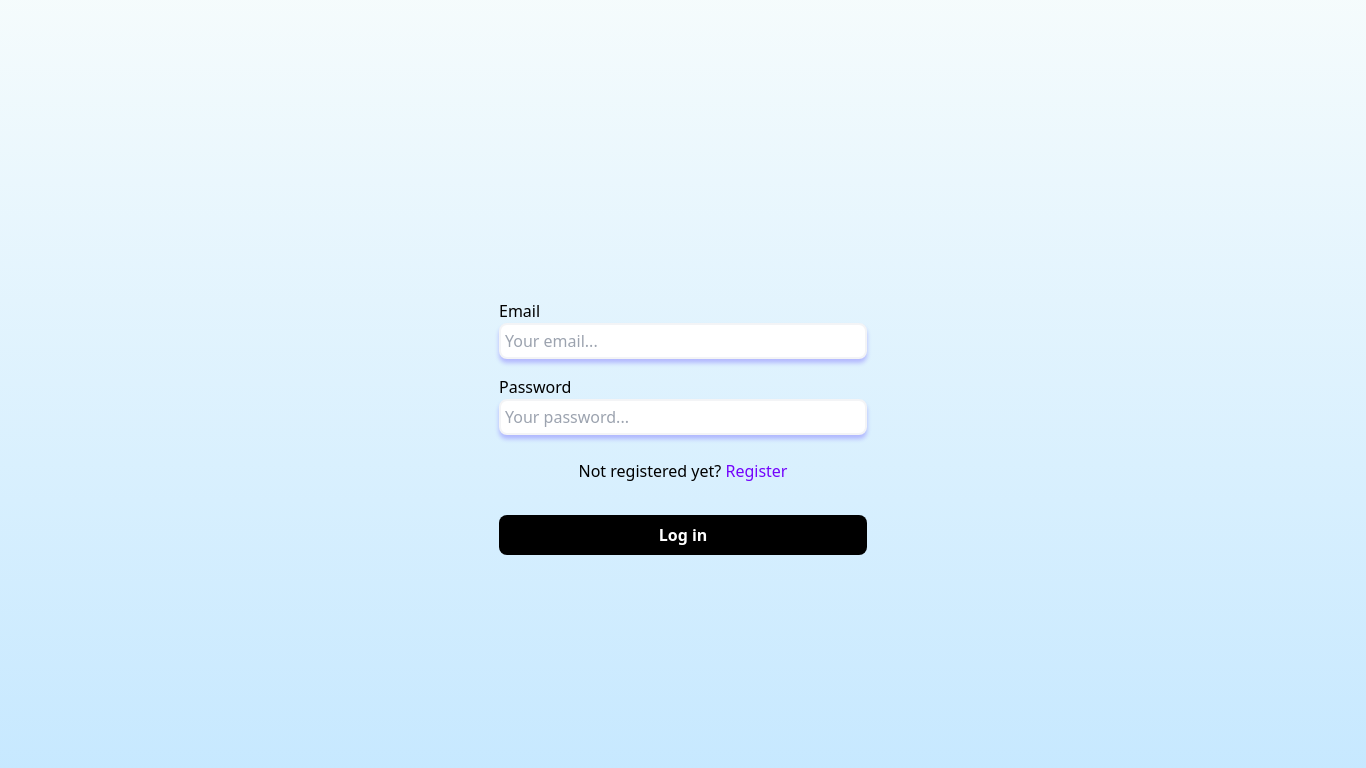
Test case: LoginForm › displays error message on failed login
This screenshot has width=1366, height=768.
In the field with placeholder "Your email...": (683, 341) [499,323,867,359], type "test@example.com"
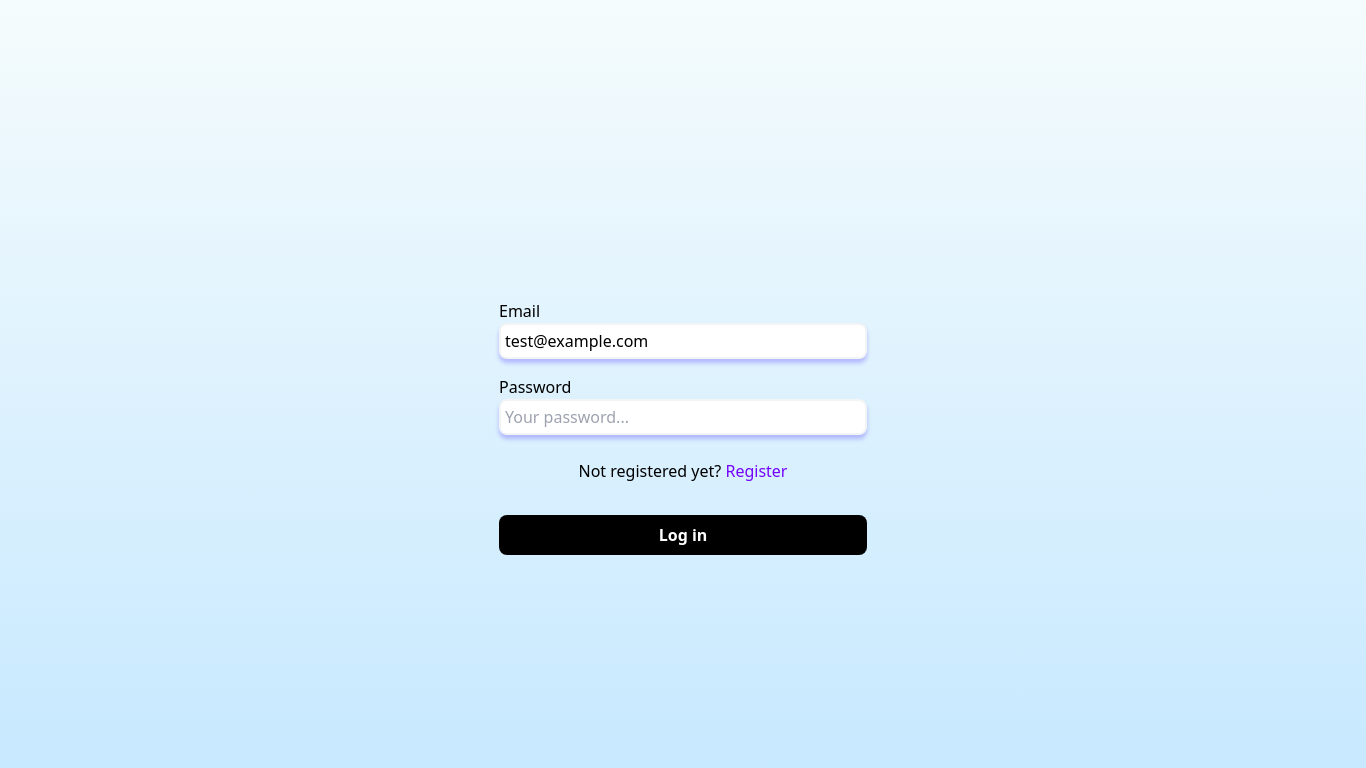
In the password field with placeholder "Your password...": (683, 417) [499,399,867,435], type "wrongpassword"
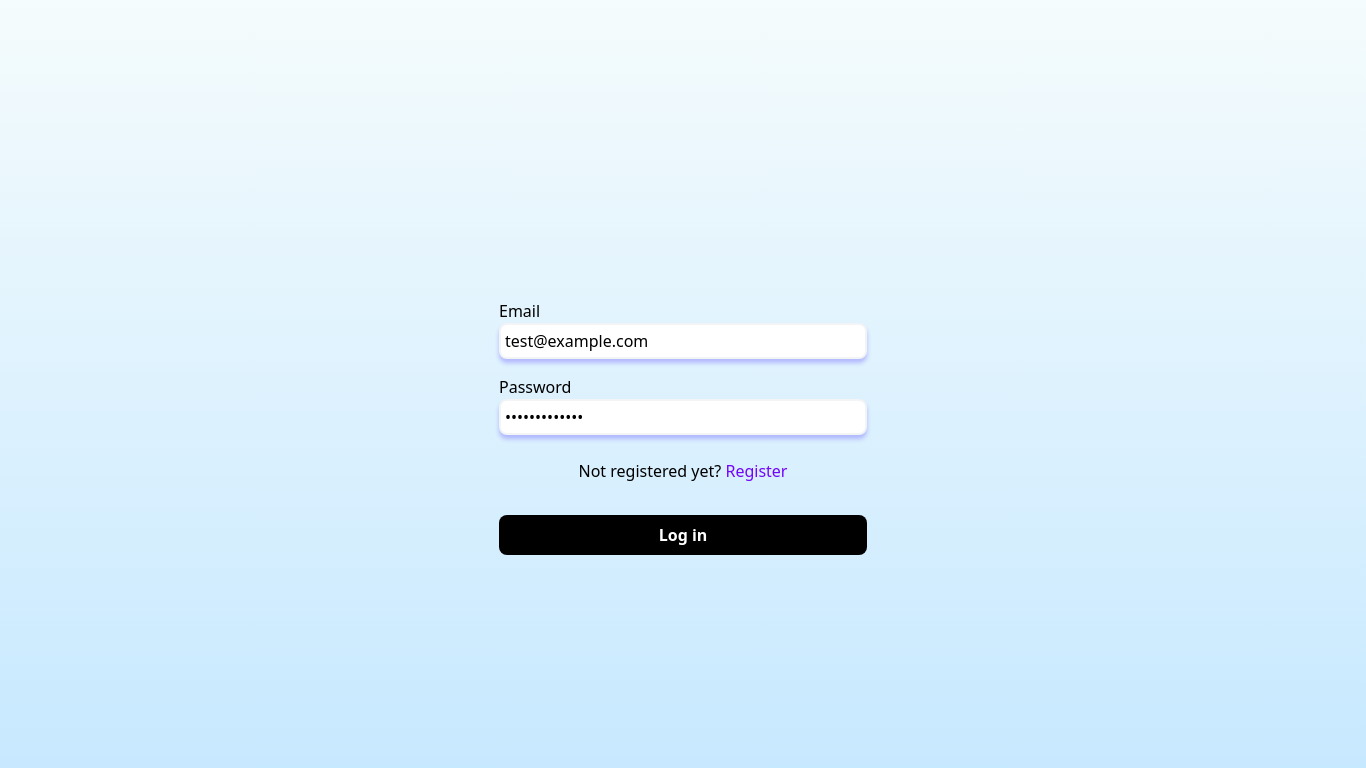
Click the button "Log in": (683, 535) [499,515,867,555]
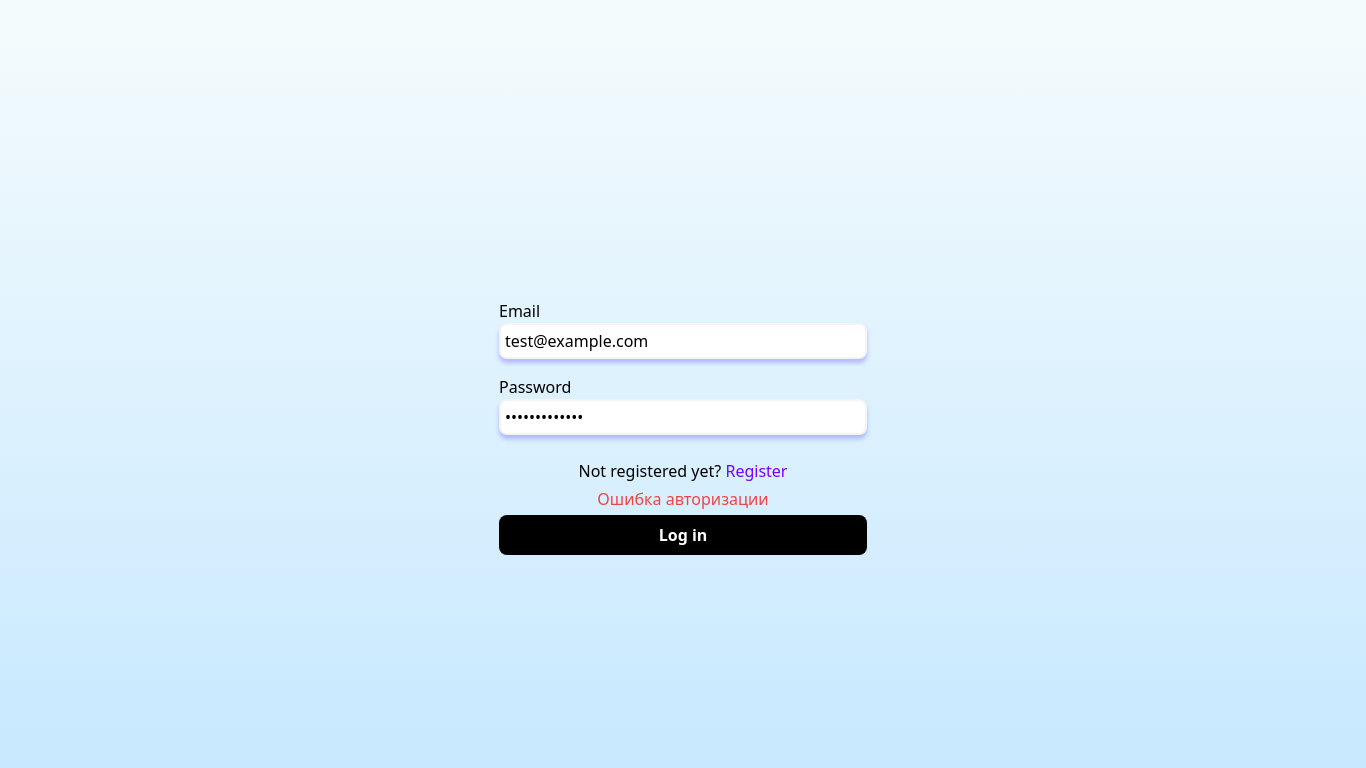
expect the text "Ошибка авторизации" is shown: met, box [597,488,769,510]
